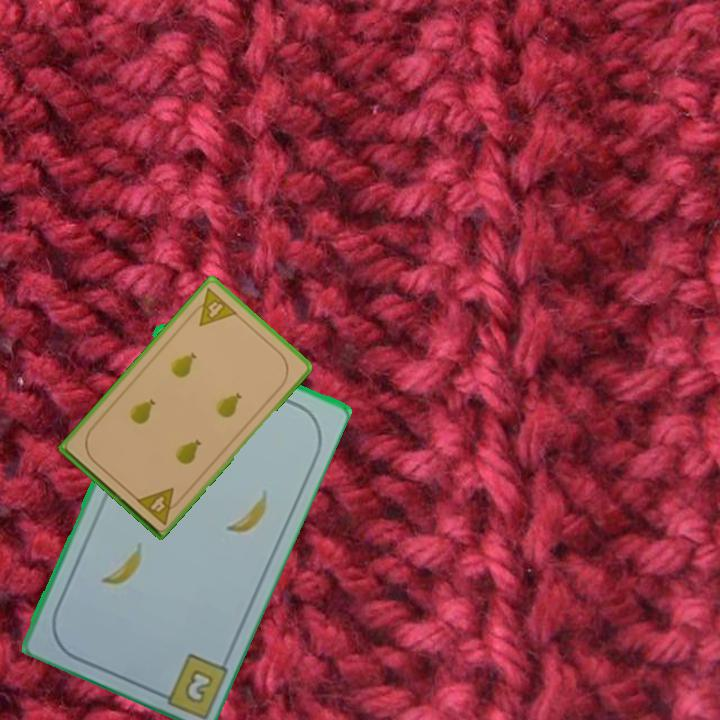2b: (183, 665, 217, 703)
4p: (186, 284, 240, 329), (132, 484, 186, 528)
